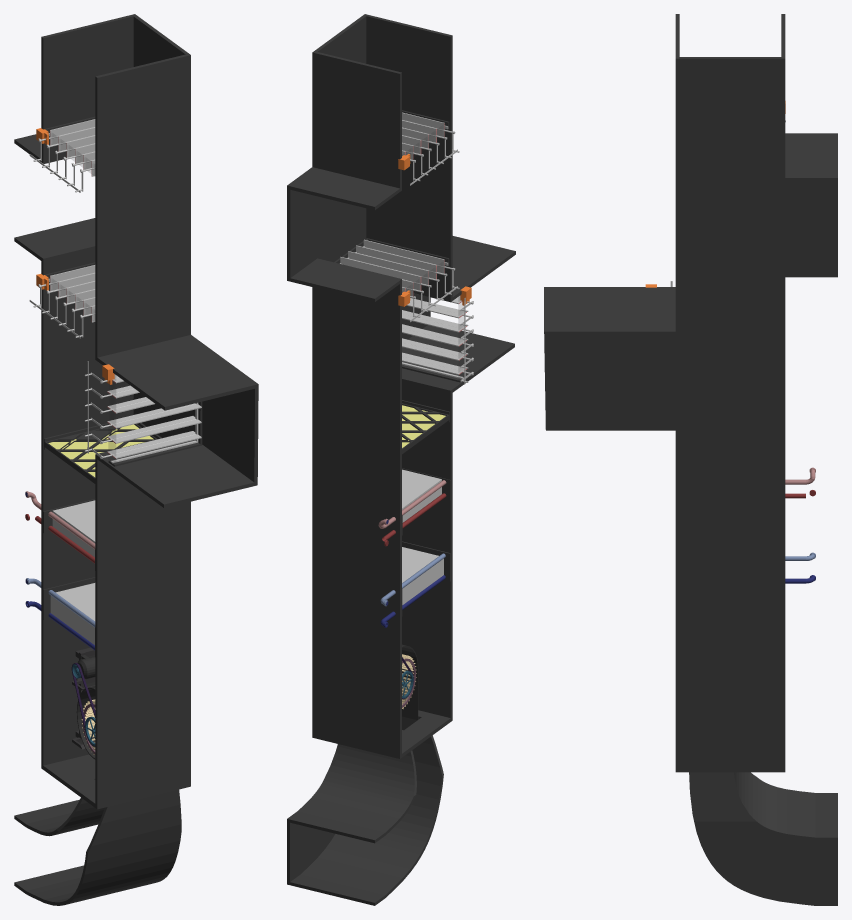
The model's file is coolingCoil_zup.obj.
3 renders of one model, left to right at view 1: azimuth 30°, elevation 25°; view 2: azimuth 150°, elevation 25°; view 3: azimuth 270°, elevation 25°, orthographic. The views are drawn at different scales.
Parts seen in each view (by area): view 1: Ducting_DuctingGeom, TopDamper_DamperGeom, CoolingCoil_CoolingCoilGeom, Filter_FilterGeom, CenterDamper_DamperGeom, LeftDamper_DamperGeom, HeatingCoil_HeatingCoilGeom, Fan_FanGeom; view 2: Ducting_DuctingGeom, TopDamper_DamperGeom, CenterDamper_DamperGeom, CoolingCoil_CoolingCoilGeom, LeftDamper_DamperGeom, HeatingCoil_HeatingCoilGeom, Filter_FilterGeom, Fan_FanGeom; view 3: Ducting_DuctingGeom.
Boxes of the visible parts, x1=… form: Ducting_DuctingGeom: x1=14, y1=14, x2=258, y2=905; TopDamper_DamperGeom: x1=84, y1=361, x2=202, y2=466; CoolingCoil_CoolingCoilGeom: x1=25, y1=577, x2=95, y2=656; Filter_FilterGeom: x1=44, y1=422, x2=161, y2=483; CenterDamper_DamperGeom: x1=29, y1=262, x2=95, y2=338; LeftDamper_DamperGeom: x1=29, y1=116, x2=95, y2=192; HeatingCoil_HeatingCoilGeom: x1=25, y1=491, x2=95, y2=570; Fan_FanGeom: x1=71, y1=647, x2=95, y2=759; Ducting_DuctingGeom: x1=287, y1=14, x2=515, y2=905; TopDamper_DamperGeom: x1=402, y1=286, x2=473, y2=384; CenterDamper_DamperGeom: x1=334, y1=238, x2=459, y2=322; CoolingCoil_CoolingCoilGeom: x1=380, y1=541, x2=450, y2=627; LeftDamper_DamperGeom: x1=398, y1=110, x2=459, y2=185; HeatingCoil_HeatingCoilGeom: x1=378, y1=468, x2=451, y2=546; Filter_FilterGeom: x1=402, y1=400, x2=449, y2=454; Fan_FanGeom: x1=402, y1=644, x2=418, y2=709; Ducting_DuctingGeom: x1=544, y1=14, x2=837, y2=905.
Bounding box in the file's own units: 2.07 × 15.9 × 4.99.
